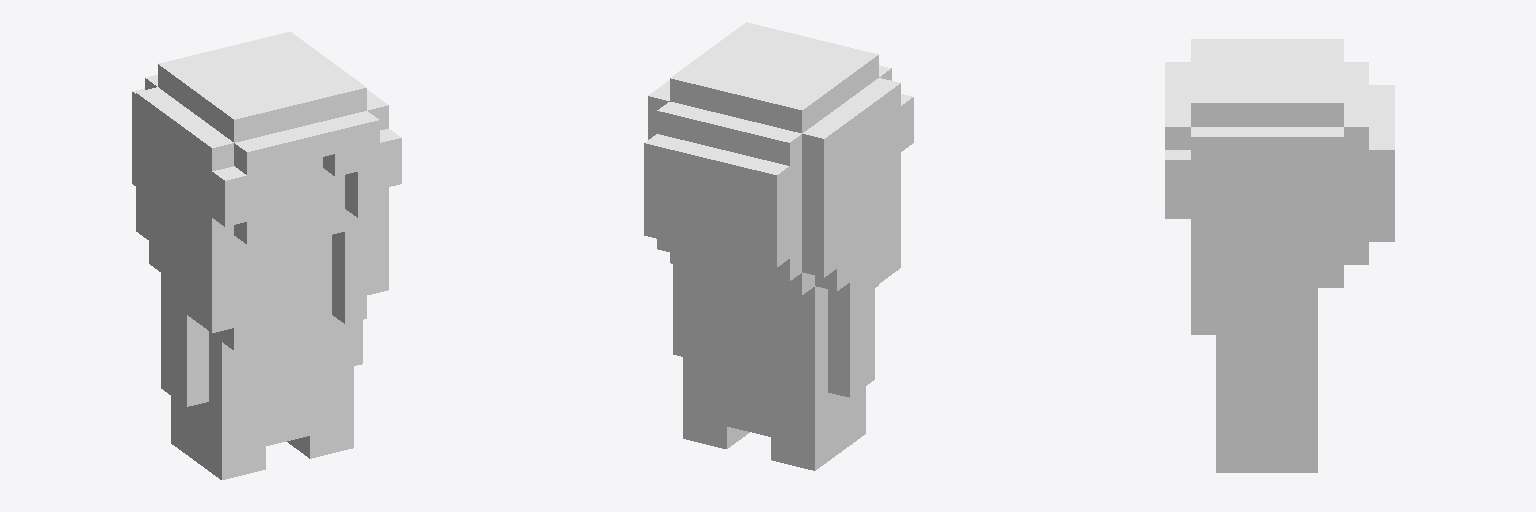
File: npc_parent_two.obj
3 renders of one model, left to right at view 1: azimuth 30°, elevation 25°; view 2: azimuth 150°, elevation 25°; view 3: azimuth 270°, elevation 25°, orthographic.
Visible parts, largest first — view 1: object 1; view 2: object 1; view 3: object 1.
Part boxes in pixels (left/top/right/bottom): object 1: left=132, top=32, right=401, bottom=479; object 1: left=644, top=22, right=913, bottom=470; object 1: left=1165, top=39, right=1394, bottom=472.
Size of the model in its own units: 0.8 by 1.6 by 0.9.